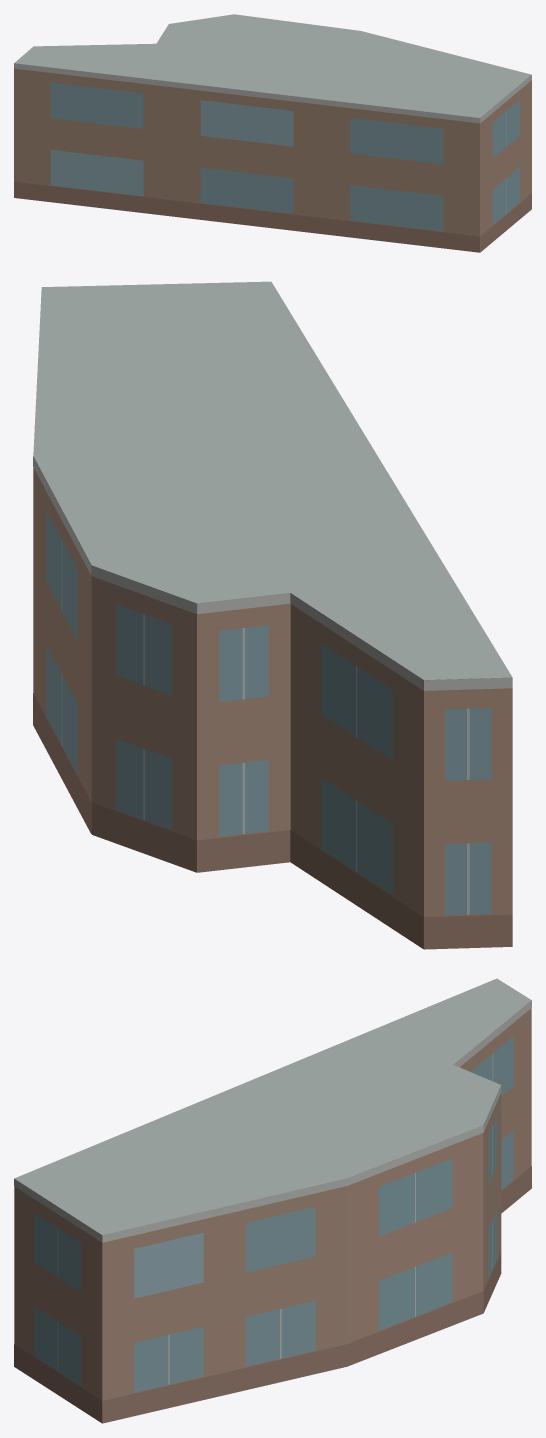
Rendered from survey-upis-32947122.glb.
3 renders of one model, top to bottom at view 1: azimuth 30°, elevation 25°; view 2: azimuth 150°, elevation 25°; view 3: azimuth 270°, elevation 25°, orthographic. The views are drawn at different scales.
Visible parts, largest first — view 1: survey-upis-32947122.tmp; view 2: survey-upis-32947122.tmp; view 3: survey-upis-32947122.tmp.
Part boxes in pixels (<box>): survey-upis-32947122.tmp: <box>14,14,531,252</box>; survey-upis-32947122.tmp: <box>33,281,512,949</box>; survey-upis-32947122.tmp: <box>14,978,531,1423</box>.
Bounding box in the file's own units: 17.87 × 6.1 × 15.22.
